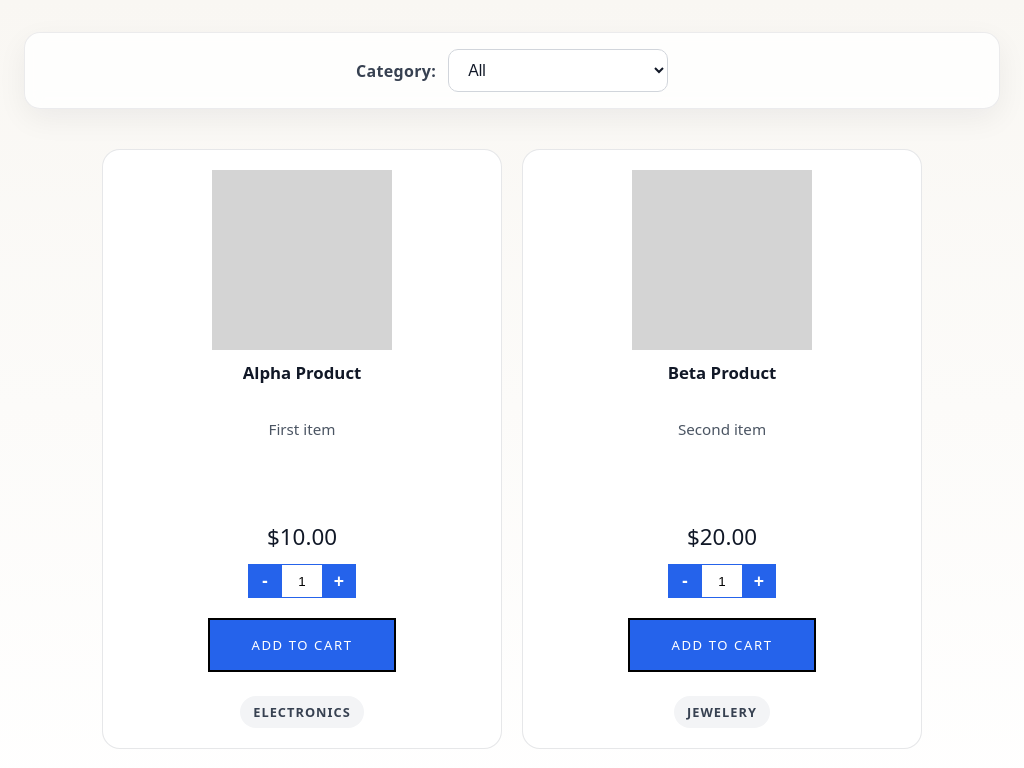
Scenario: Shop › filters the visible cards by category
The image size is (1024, 768).
Select "Electronics" in the dropdown at (558, 71), box x1=448 y1=49 x2=668 y2=92
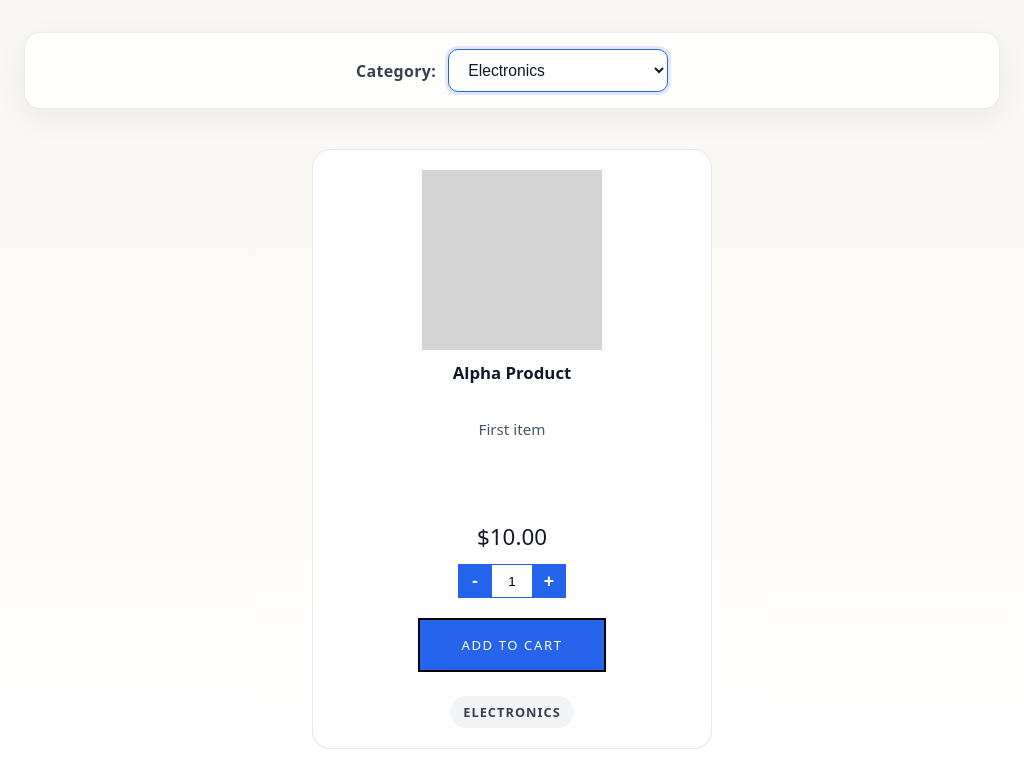
Check: the heading "Alpha Product" is shown, box x1=453 y1=361 x2=571 y2=384
Check: the heading "Beta Product" is gone
